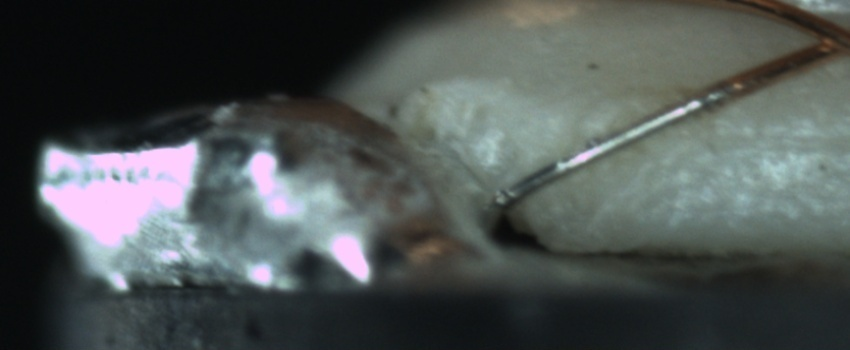CL: (794, 15, 850, 69)
DL: (653, 110, 849, 166)
TS: (504, 84, 731, 206)
